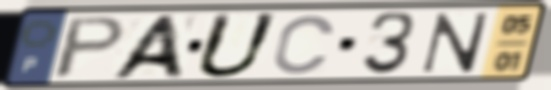3: (360, 10, 419, 77)
A: (104, 13, 188, 80)
C: (269, 13, 339, 77)
N: (417, 11, 493, 75)
P: (49, 14, 131, 81)
U: (191, 11, 284, 81)
